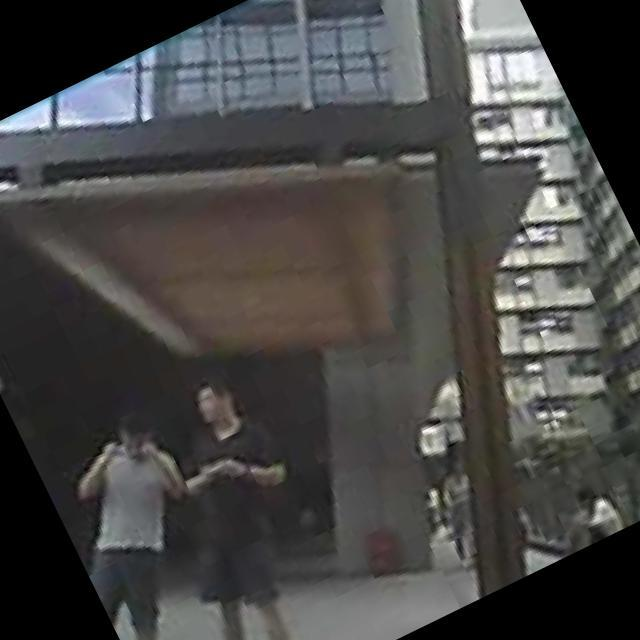person: (85, 365, 377, 640), (34, 405, 270, 640), (549, 479, 625, 553)
